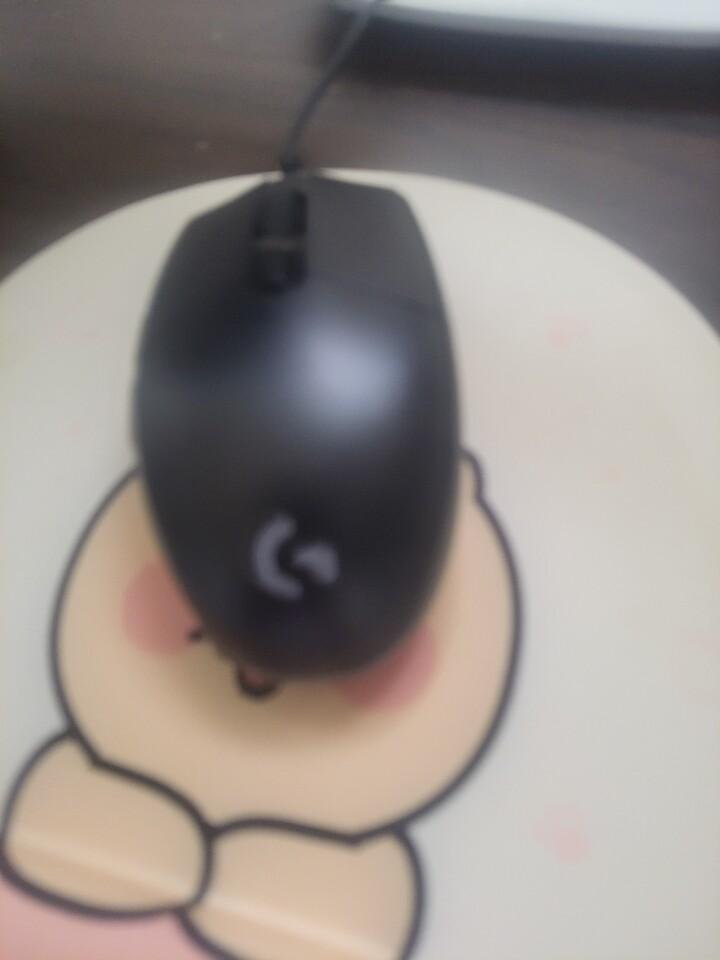mouse: (129, 169, 463, 687)
